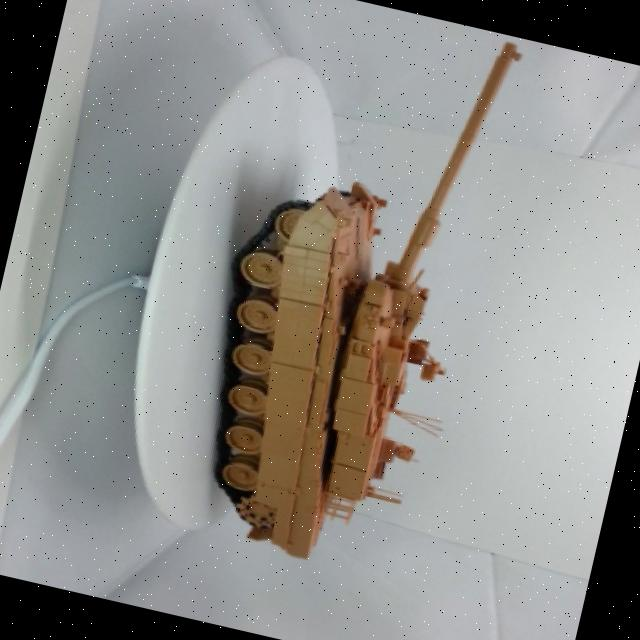korea tank: (153, 0, 538, 610)
